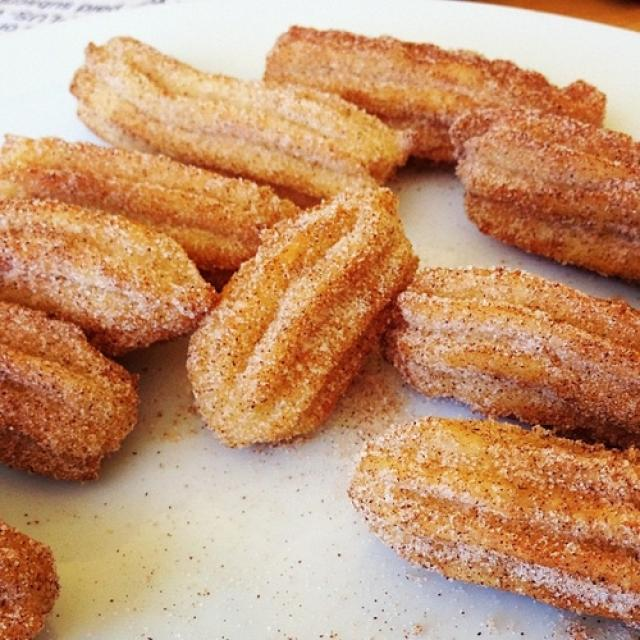炸货点心: (11, 18, 624, 616)
